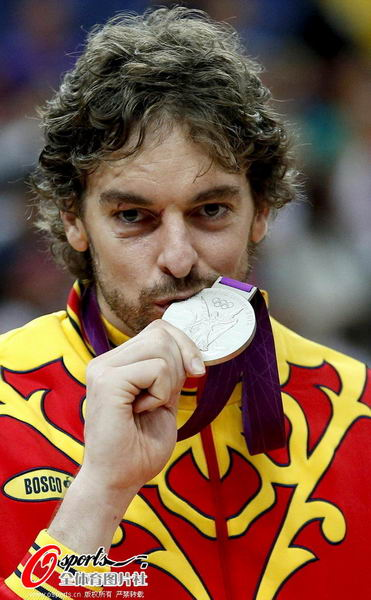face: (95, 103, 247, 345)
